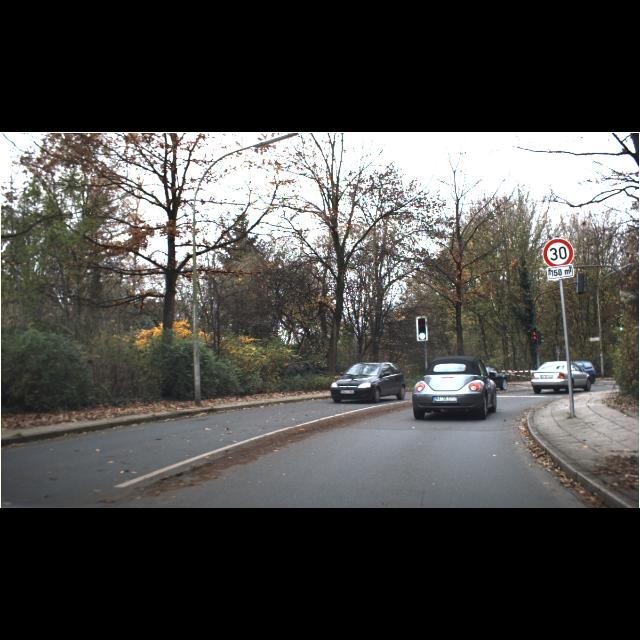prohibitory: (542, 238, 574, 268)
